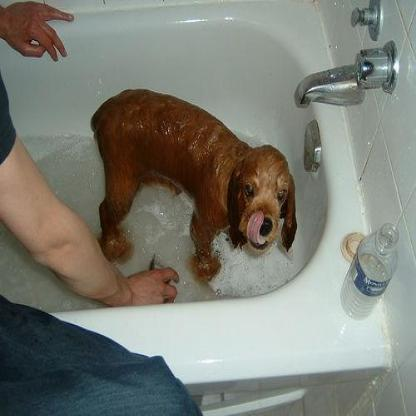cocker_spaniel: (88, 87, 298, 276)
